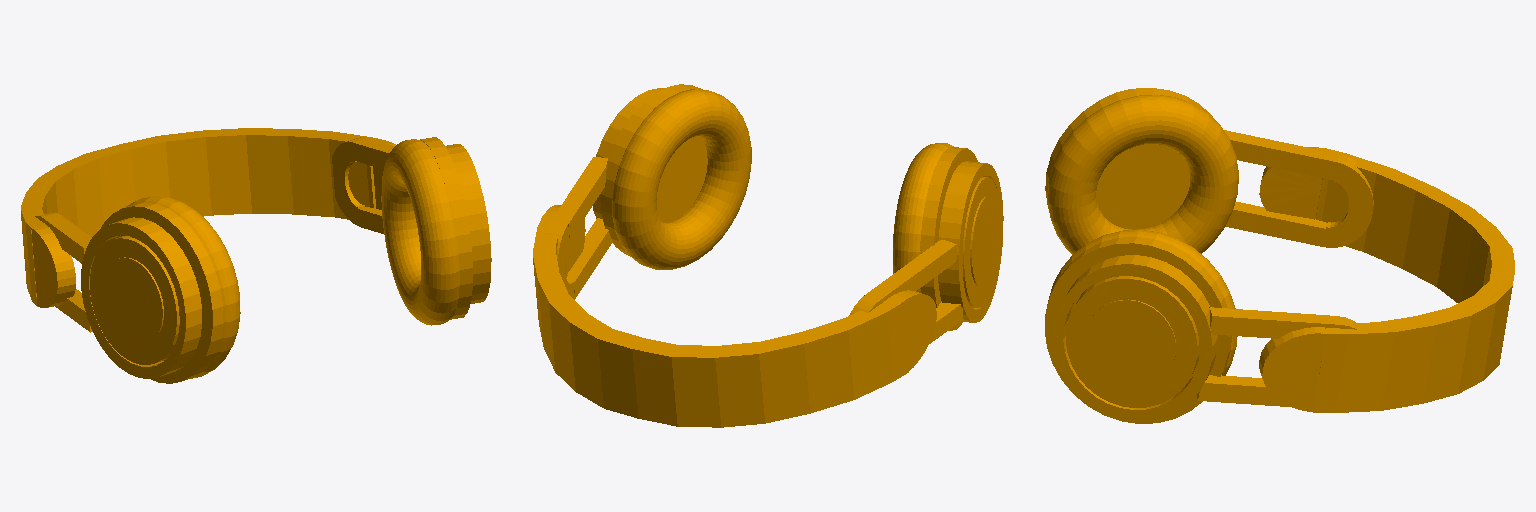
URDF robot description (object):
<?xml version="1.0"?>
<robot name="object">
  <link name="object">
    <visual>
      <origin xyz="0.0 0.0 0.0"/>
      <geometry>
        <mesh filename="headphones.stl" scale="1.00 1.00 1.00"/>
      </geometry>
    </visual>
    <collision>
      <origin xyz="0.0 0.0 0.0"/>
      <geometry>
        <mesh filename="headphones.stl" scale="1.00 1.00 1.00"/>
      </geometry>
    </collision>
  </link>
</robot>
    
                    

--- What the picture shows (computed from the rendered views, not written in the file) ---
3 views of the same robot in one strip: view 1: azimuth 30°, elevation 25°; view 2: azimuth 150°, elevation 25°; view 3: azimuth 270°, elevation 25° (orthographic).
Model object with 1 links and 0 joints (none), rooted at object, posed every joint at zero.
Visible links, largest first — view 1: object; view 2: object; view 3: object.
Link boxes in pixels (bbox=[...]): object: bbox=[21, 128, 491, 383]; object: bbox=[533, 84, 1003, 427]; object: bbox=[1045, 88, 1514, 423].
Bounding box of the posed robot: 0.1315 × 0.137 × 0.0603 m (x, y, z).
1 mesh visuals loaded from 1 distinct referenced files (1 binary STL).
